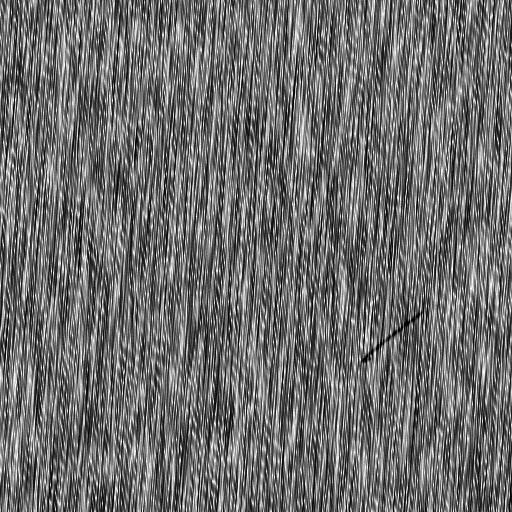DefectTypeC: (363, 307, 430, 360)
